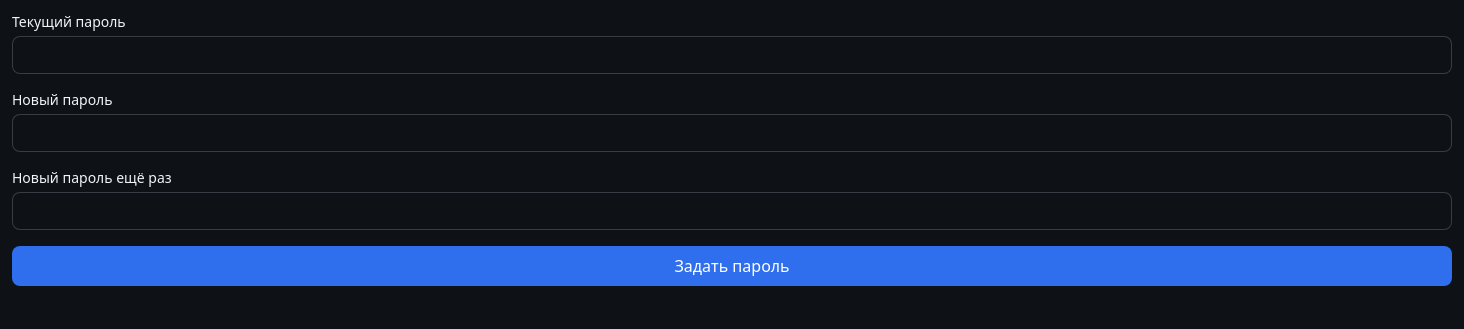
Test: смена пароля › опечатку в подтверждении ловит на месте, не беспокоя сервер
This screenshot has width=1464, height=329.
Type "handed-to-me-1" into the password field labelled "Текущий пароль" at (732, 55), box [12,36,1452,74]
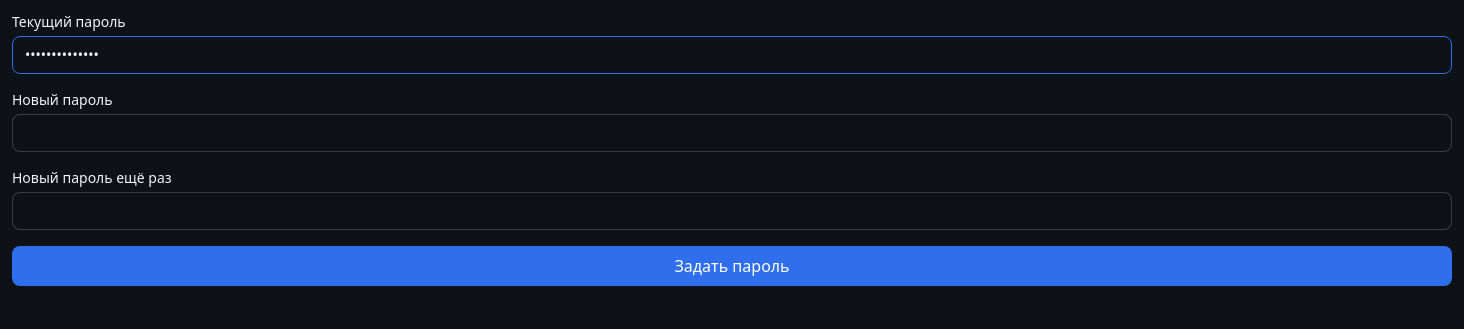
Type "my-own-password-1" into the password field labelled "Новый пароль" at (732, 133), box [12,114,1452,152]
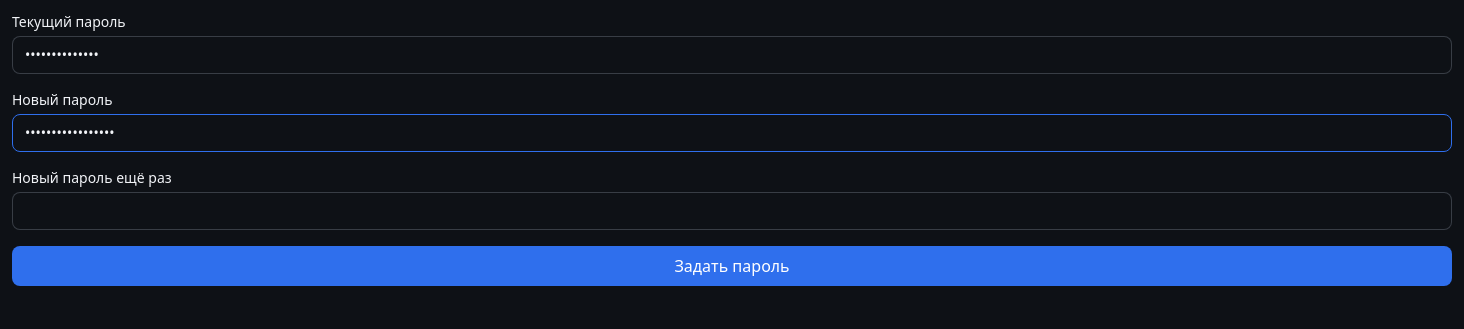
Type "my-own-passward-1" into the password field labelled "Новый пароль ещё раз" at (732, 211), box [12,192,1452,230]
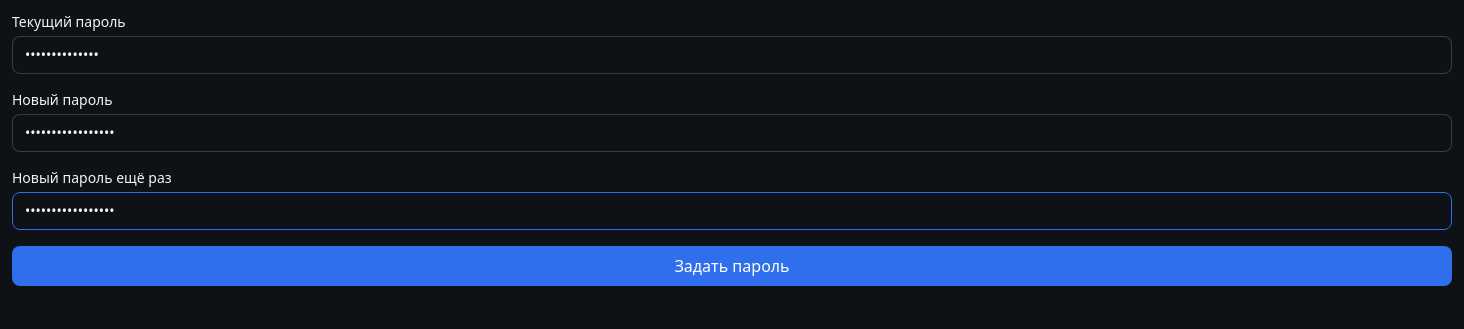
Click the button "Задать пароль" at (732, 266), box [12,246,1452,286]
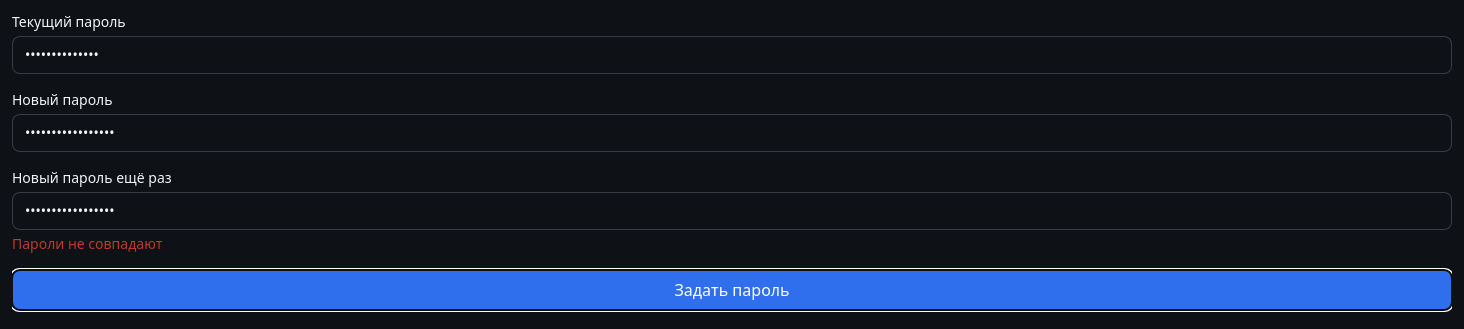
Expected: the text "Пароли не совпадают" is shown, [12,234,162,253]
